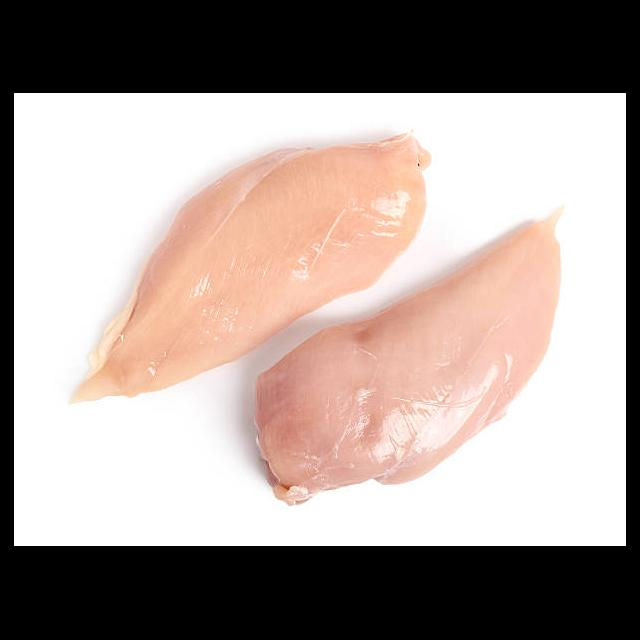chicken: (70, 133, 424, 399), (252, 224, 561, 498)
